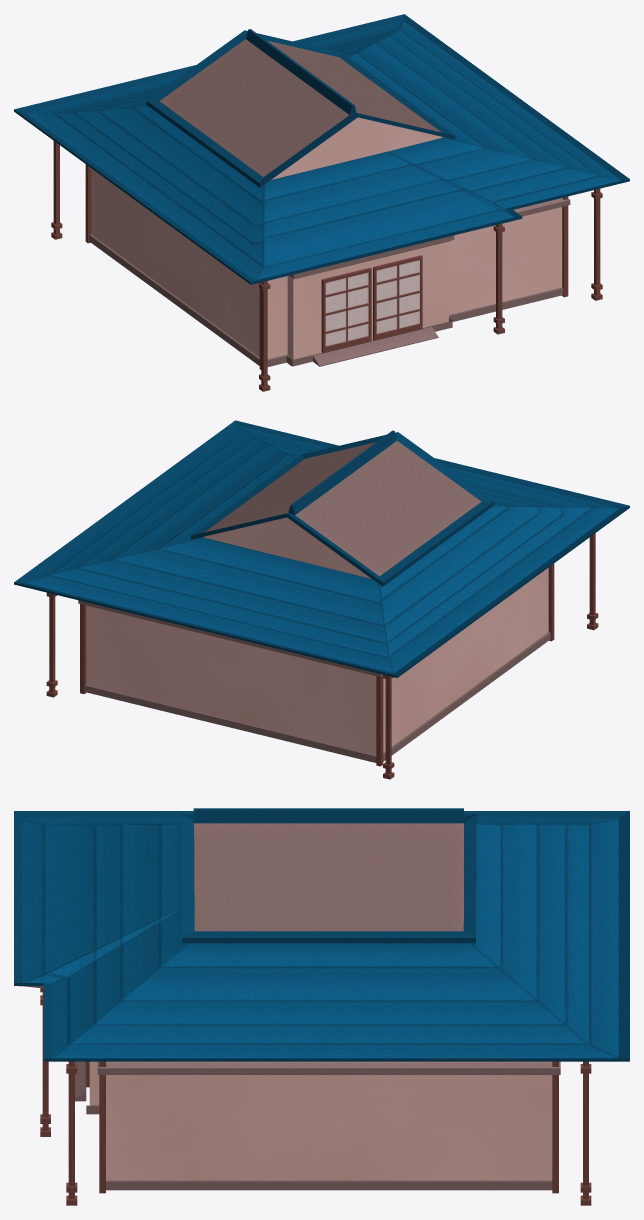
File: House_2_Blue.fbx
3 renders of one model, top to bottom at view 1: azimuth 30°, elevation 25°; view 2: azimuth 150°, elevation 25°; view 3: azimuth 270°, elevation 25°, orthographic. The views are drawn at different scales.
Parts seen in each view (by area): view 1: House V2; view 2: House V2; view 3: House V2.
Part boxes in pixels (<box>): House V2: <box>14,14,629,391</box>; House V2: <box>14,420,629,779</box>; House V2: <box>14,808,629,1205</box>.
Bounding box in the file's own units: 1185 × 604 × 1245.
1 material, 1 textured.
